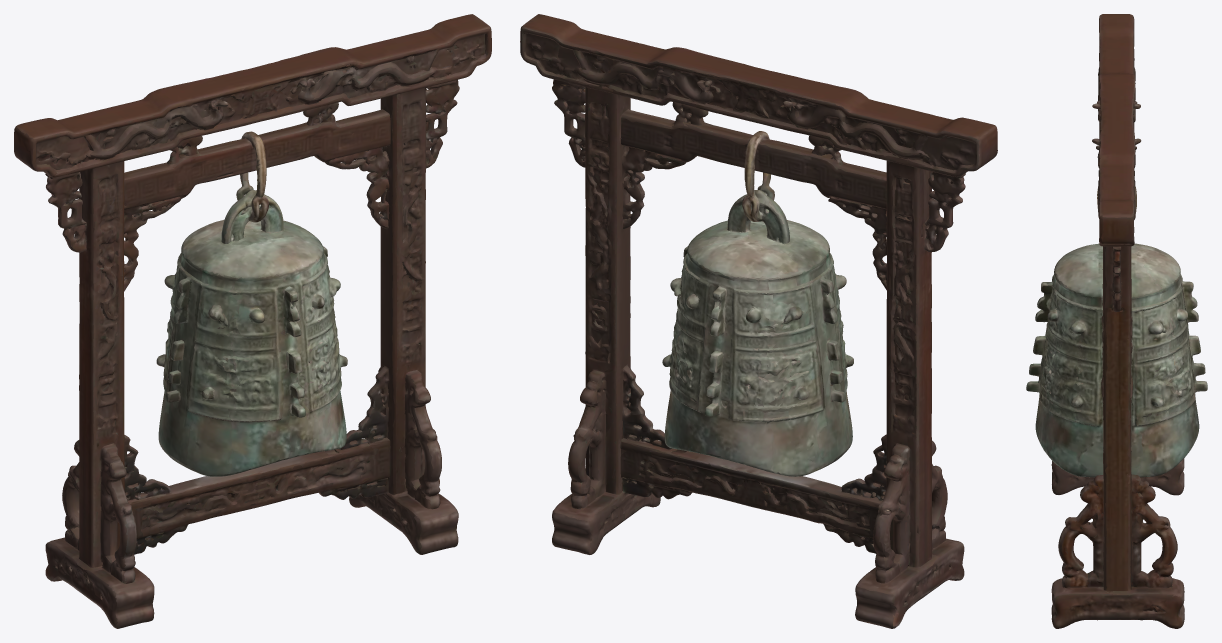
File: celestial-bell.glb
3 views of the same model, side by side, from view 1: azimuth 30°, elevation 25°; view 2: azimuth 150°, elevation 25°; view 3: azimuth 270°, elevation 25° (orthographic). The views are drawn at different scales.
Parts seen in each view (by area): view 1: geometry_0; view 2: geometry_0; view 3: geometry_0.
Part boxes in pixels (x1=…): geometry_0: x1=14, y1=14, x2=491, y2=628; geometry_0: x1=520, y1=14, x2=997, y2=628; geometry_0: x1=1026, y1=14, x2=1207, y2=628.
Size of the model in its own units: 0.3465 by 0.35 by 0.1307.
1 material, 1 textured.
